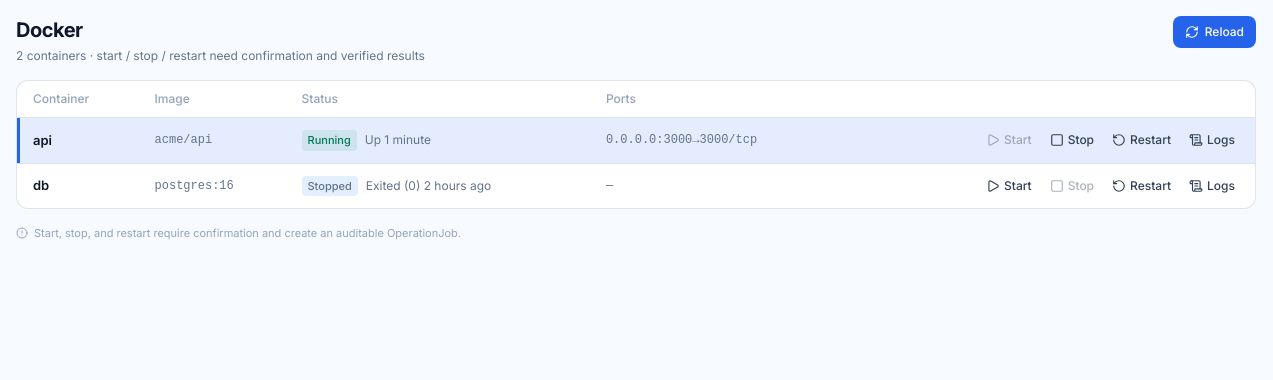
Test: DockerOpsPanel › shows published ports in the container table and per-row actions
Expected: the text "0.0.0.0:3000→3000/tcp" is shown, 594,118 -> 843,163
Expected: the column heading "Ports" is shown, 594,81 -> 843,118
Click the button "Logs" in the row of "db".
click(1212, 186)  # box 1181,172 -> 1243,200
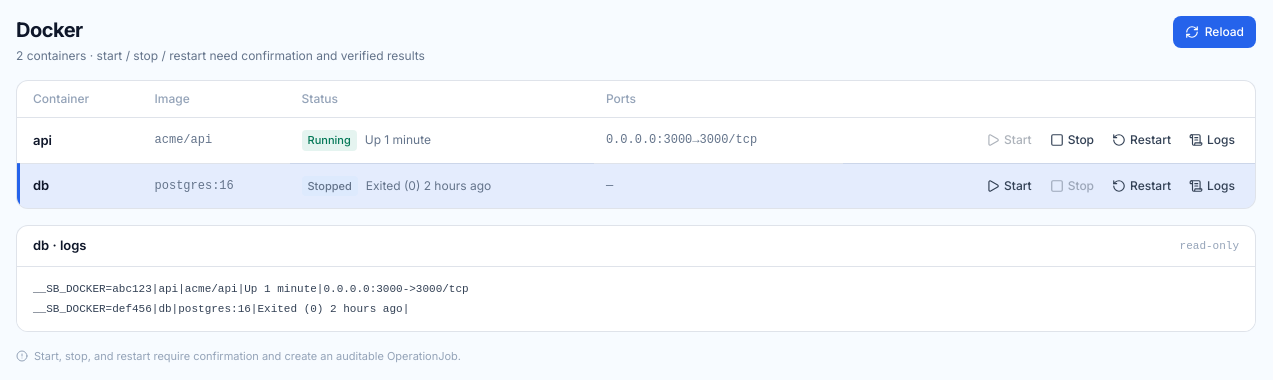
Expected: the element with test id "docker-ops-output" is shown, 17,266 -> 1255,330
Expected: the heading "db · logs" is shown, 33,236 -> 86,256
